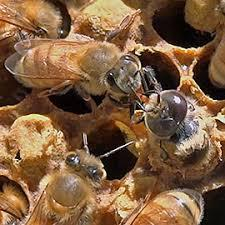worker-bee: (4, 34, 145, 112), (25, 133, 105, 224)
